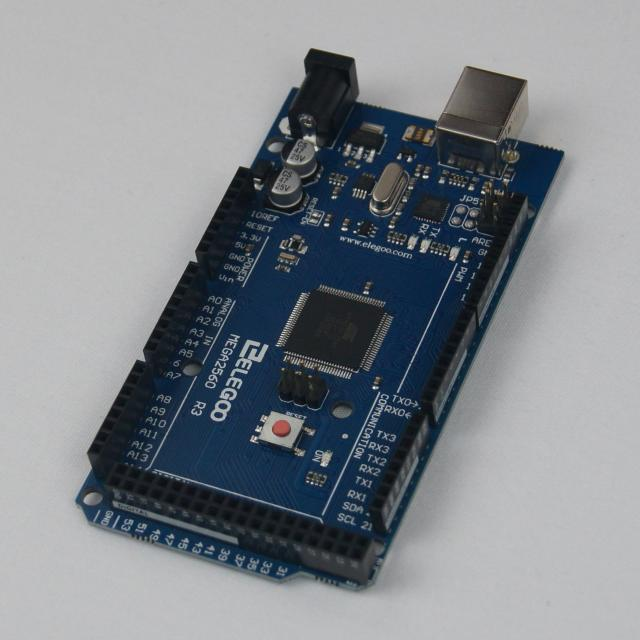Arduino Mega 2560 -Blue-: (77, 51, 564, 588)
